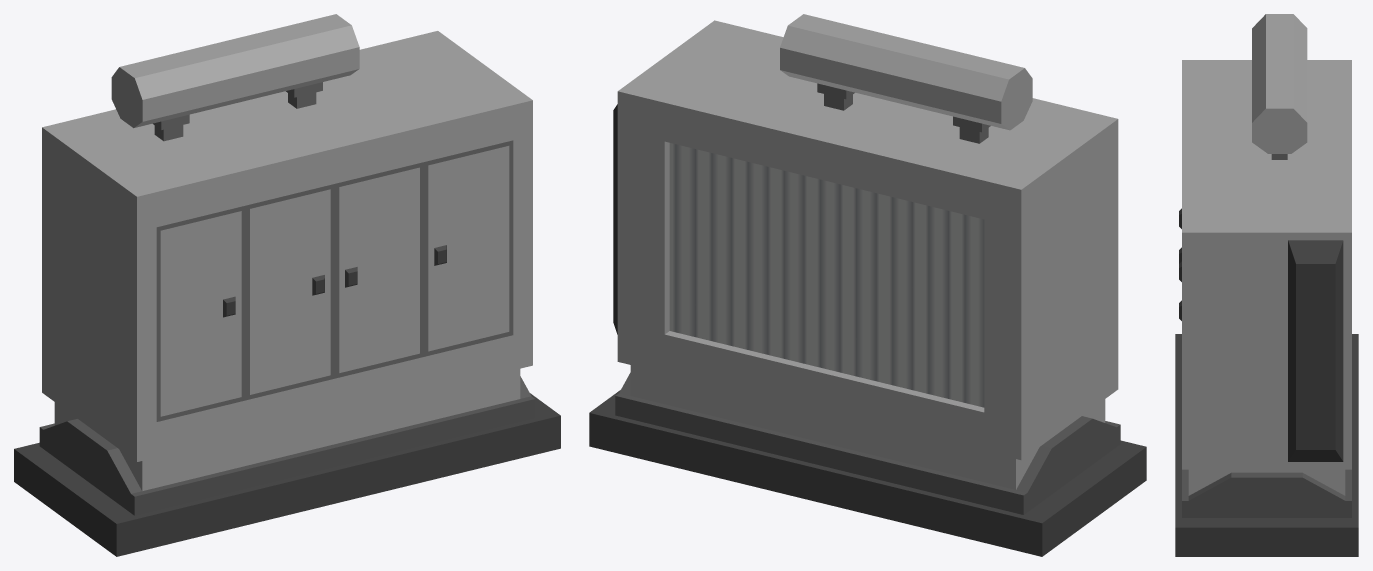
The model's file is Ext_RoofGenerator01.fbx.
3 renders of one model, left to right at view 1: azimuth 30°, elevation 25°; view 2: azimuth 150°, elevation 25°; view 3: azimuth 270°, elevation 25°, orthographic. The views are drawn at different scales.
Parts seen in each view (by area): view 1: Ext_RoofGenerator01; view 2: Ext_RoofGenerator01; view 3: Ext_RoofGenerator01.
Part boxes in pixels (box(x1,y1,x2,y2)): Ext_RoofGenerator01: box(14, 14, 560, 556); Ext_RoofGenerator01: box(589, 14, 1146, 556); Ext_RoofGenerator01: box(1175, 14, 1358, 556).
Size of what is drawn, in the model's own units: 250 by 100 by 228.
